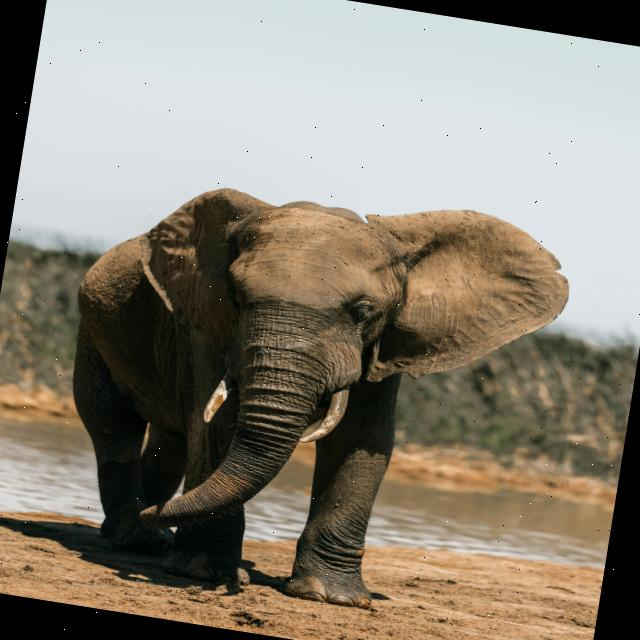Elephant: (35, 150, 578, 634)
